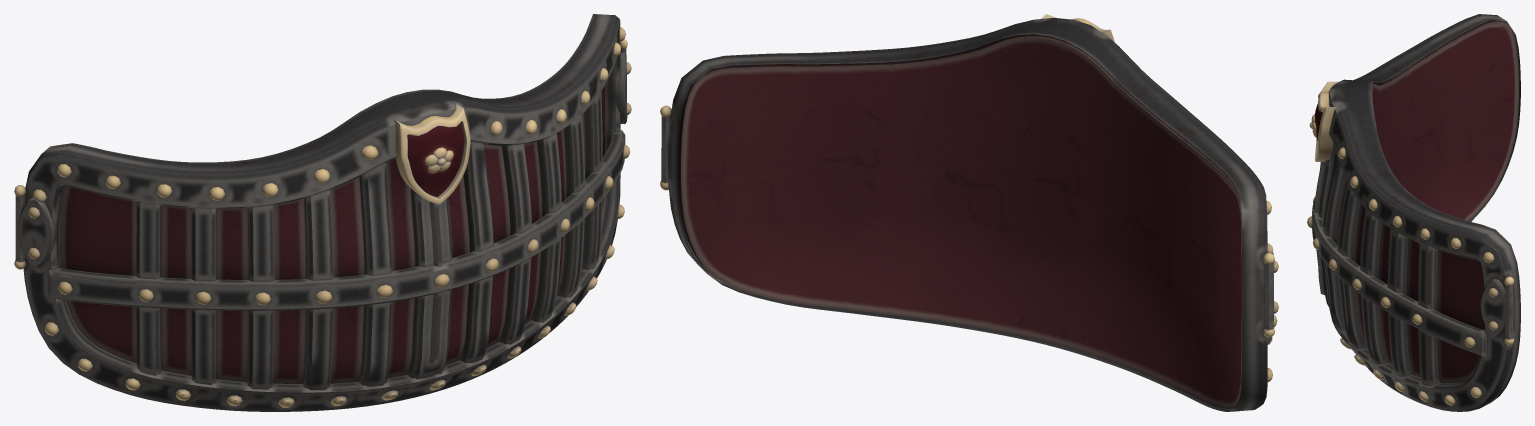
The model's file is NHAcc_GrilleMask.fbx.
The picture shows the model from 3 angles, left to right: view 1: azimuth 30°, elevation 25°; view 2: azimuth 150°, elevation 25°; view 3: azimuth 270°, elevation 25°; orthographic projection. The views are drawn at different scales.
Visible parts, largest first — view 1: GrilleMask; view 2: GrilleMask; view 3: GrilleMask.
Part boxes in pixels (bbox=[...]): GrilleMask: bbox=[14, 14, 631, 411]; GrilleMask: bbox=[660, 14, 1278, 411]; GrilleMask: bbox=[1307, 14, 1520, 411].
Bounding box in the file's own units: 1.13 × 0.5278 × 0.4205.
Materials: 1 (1 with a texture image).
